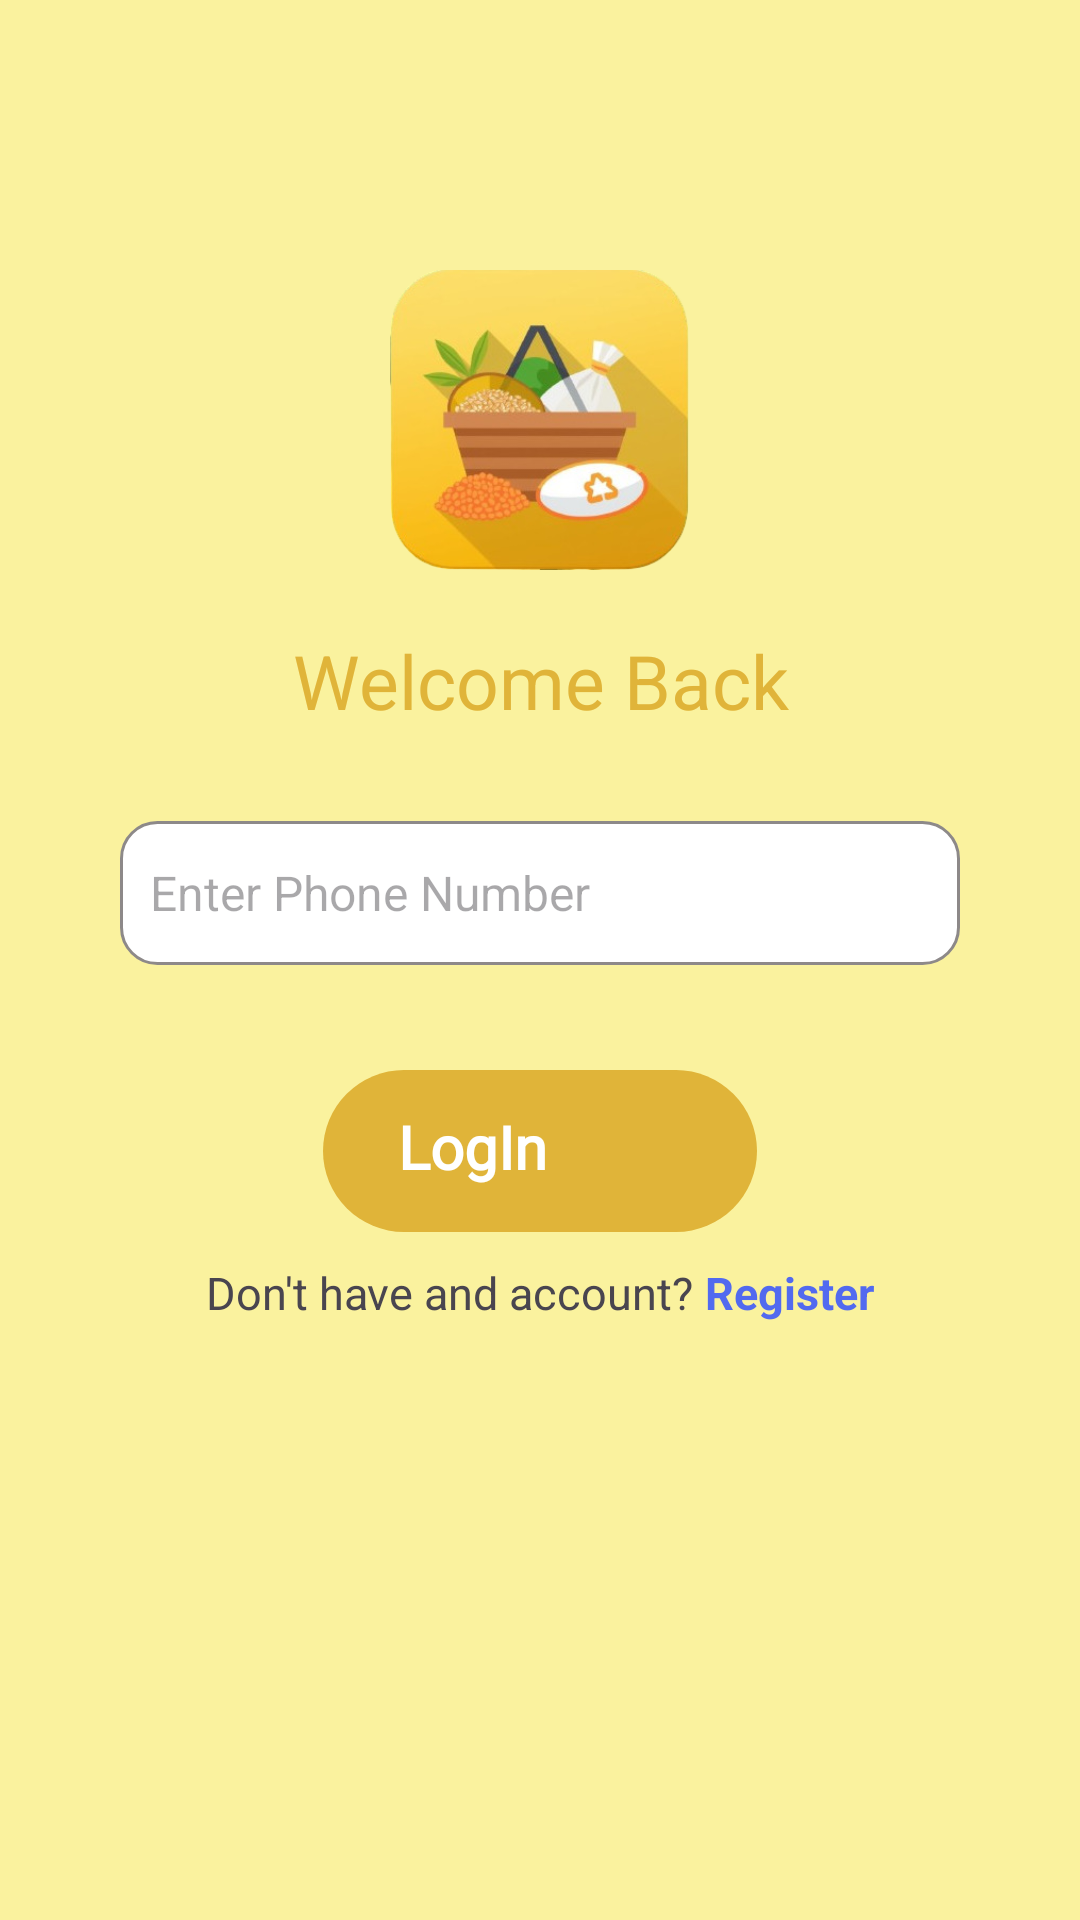

Named icons in this screenshot (1080x1920) and their bounding boxes, (x1, y1, x2, y2):
appicon: (390, 270, 688, 570)
